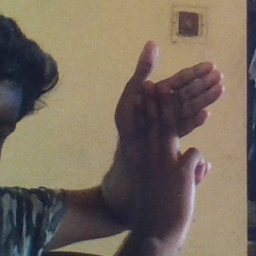M: (105, 39, 229, 203)
